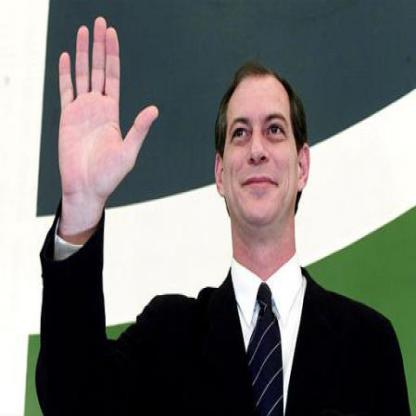face: (222, 70, 301, 237)
